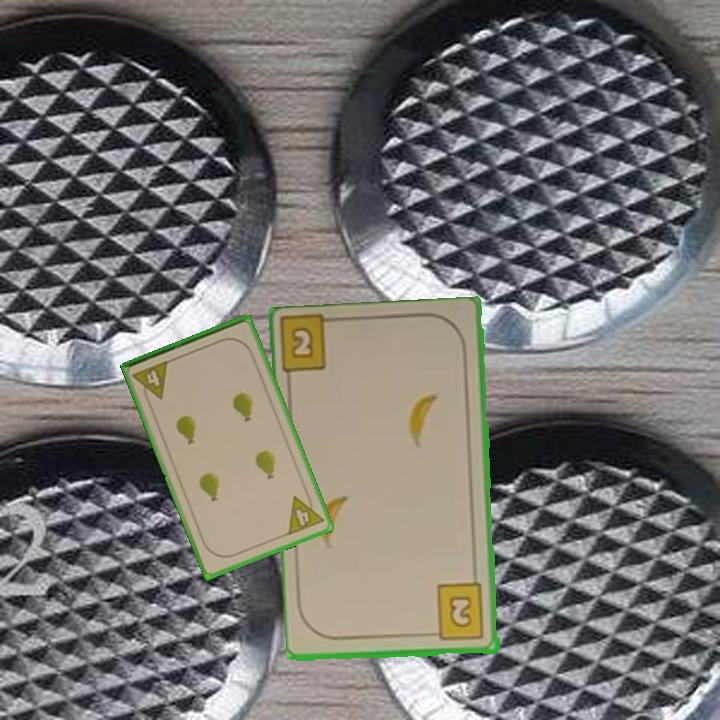2b: (426, 581, 487, 644), (288, 323, 317, 362)
4p: (284, 488, 327, 538), (129, 357, 172, 406)
